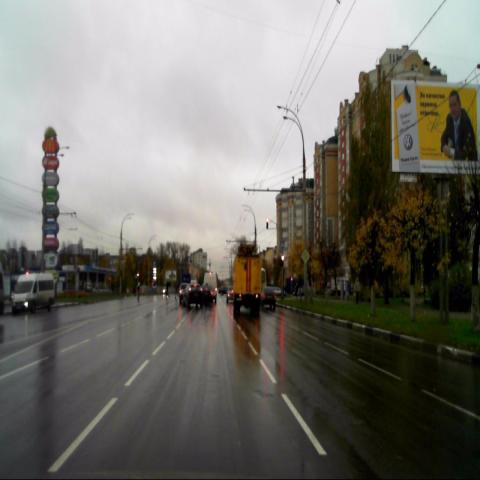2_1: (300, 248, 309, 264)
